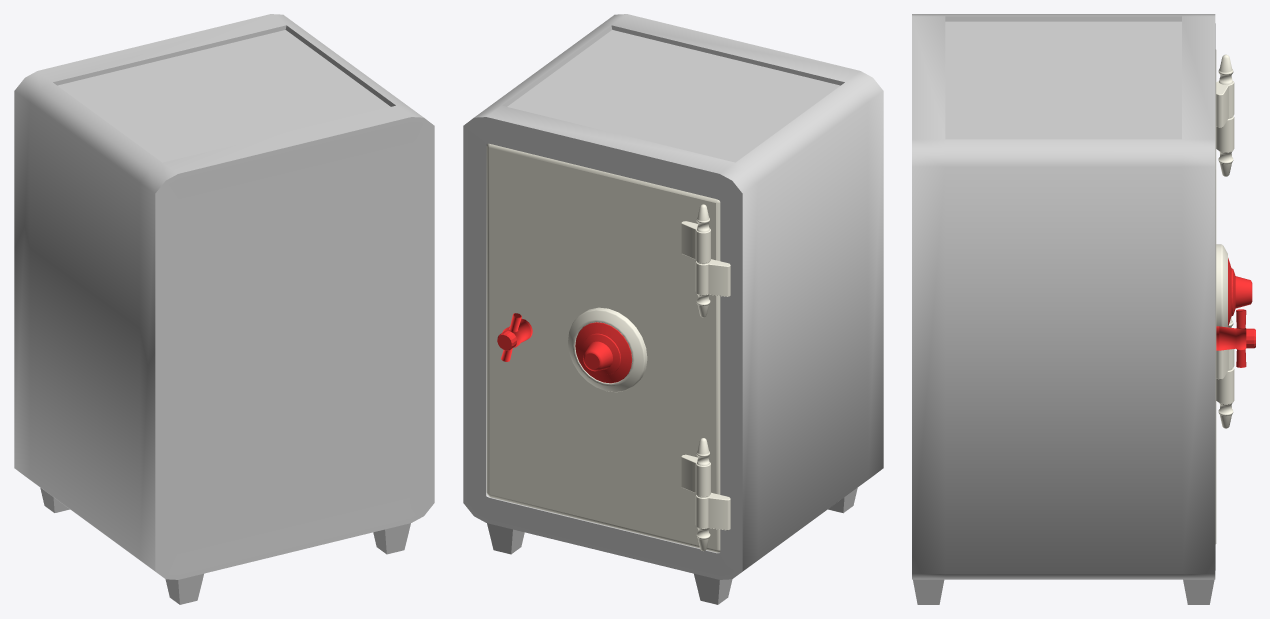
File: Caja_FuerteENtera.fbx
3 renders of one model, left to right at view 1: azimuth 30°, elevation 25°; view 2: azimuth 150°, elevation 25°; view 3: azimuth 270°, elevation 25°, orthographic. The views are drawn at different scales.
Parts seen in each view (by area): view 1: Caja; view 2: Caja, PuertaCajaFuerte, RuedaNumerosCajaFuerte, Pomo; view 3: Caja, PuertaCajaFuerte, Pomo, RuedaNumerosCajaFuerte.
Boxes of the visible parts, box(x1,y1,x2,y2) form: Caja: box(14, 14, 434, 604); Caja: box(463, 14, 883, 604); PuertaCajaFuerte: box(486, 143, 730, 552); RuedaNumerosCajaFuerte: box(575, 322, 632, 383); Pomo: box(497, 313, 532, 361); Caja: box(912, 14, 1215, 604); PuertaCajaFuerte: box(1215, 49, 1234, 543); Pomo: box(1216, 309, 1255, 367); RuedaNumerosCajaFuerte: box(1228, 258, 1252, 326).
Size of the model in its own units: 43.85 by 43.37 by 65.1.
